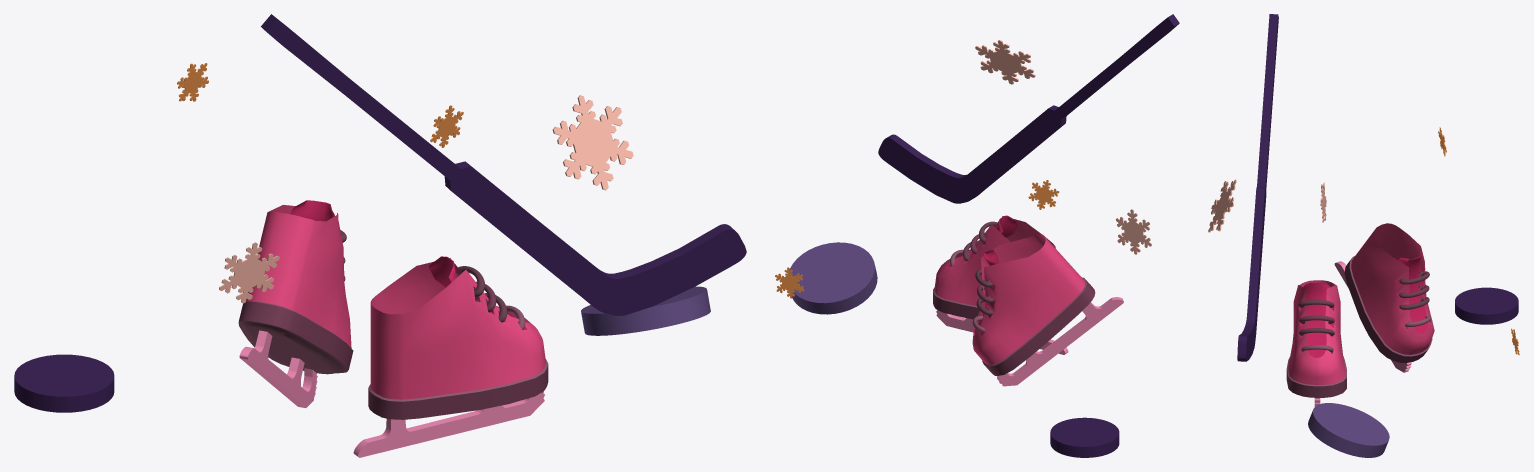
3 views of the same model, side by side, from view 1: azimuth 30°, elevation 25°; view 2: azimuth 150°, elevation 25°; view 3: azimuth 270°, elevation 25° (orthographic). The views are drawn at different scales.
Parts seen in each view (by area): view 1: Shoe_2, Cap_2_5, Shoe, Cylinder_2, Cap_1_4, Cylinder, Cap_1_8, Cap_1_3, Extrude, Cap_1_6, Extrude_2, Extrude_3; view 2: Shoe, Cap_1_5, Cylinder, Shoe_2, Cylinder_2, Cap_2_6, Cap_2_4, Extrude, Cap_2_3, Cap_2_2, Cap_2, Cap_2_8; view 3: Shoe, Shoe_2, Extrude, Cylinder, Cylinder_2, Tongue_2, Tongue, Cap_1_5, Cap_1_4.
Part boxes in pixels (bbox=[...]): Shoe_2: bbox=[368, 258, 548, 419]; Cap_2_5: bbox=[266, 19, 746, 315]; Shoe: bbox=[238, 205, 353, 374]; Cylinder_2: bbox=[14, 354, 114, 412]; Cap_1_4: bbox=[553, 95, 633, 189]; Cylinder: bbox=[581, 286, 710, 335]; Cap_1_8: bbox=[358, 392, 544, 457]; Cap_1_3: bbox=[219, 243, 279, 303]; Extrude: bbox=[261, 14, 734, 278]; Cap_1_6: bbox=[248, 332, 317, 407]; Extrude_2: bbox=[239, 330, 316, 407]; Extrude_3: bbox=[353, 391, 544, 456]; Shoe: bbox=[972, 234, 1095, 375]; Cap_1_5: bbox=[878, 17, 1174, 203]; Cylinder: bbox=[789, 242, 877, 314]; Shoe_2: bbox=[933, 216, 1055, 319]; Cylinder_2: bbox=[1050, 417, 1119, 457]; Cap_2_6: bbox=[997, 299, 1123, 386]; Cap_2_4: bbox=[975, 41, 1034, 84]; Extrude: bbox=[887, 14, 1179, 199]; Cap_2_3: bbox=[1116, 209, 1151, 254]; Cap_2_2: bbox=[775, 267, 804, 298]; Cap_2: bbox=[1028, 180, 1058, 209]; Cap_2_8: bbox=[936, 310, 1065, 354]; Shoe: bbox=[1344, 223, 1434, 362]; Shoe_2: bbox=[1286, 280, 1346, 397]; Extrude: bbox=[1237, 14, 1277, 361]; Cylinder: bbox=[1308, 403, 1389, 457]; Cylinder_2: bbox=[1455, 287, 1518, 324]; Tongue_2: bbox=[1300, 283, 1333, 357]; Tongue: bbox=[1396, 252, 1427, 333]; Cap_1_5: bbox=[1246, 14, 1278, 361]; Cap_1_4: bbox=[1208, 179, 1235, 231].
Bounding box in the file's own units: 371 × 306 × 274.
